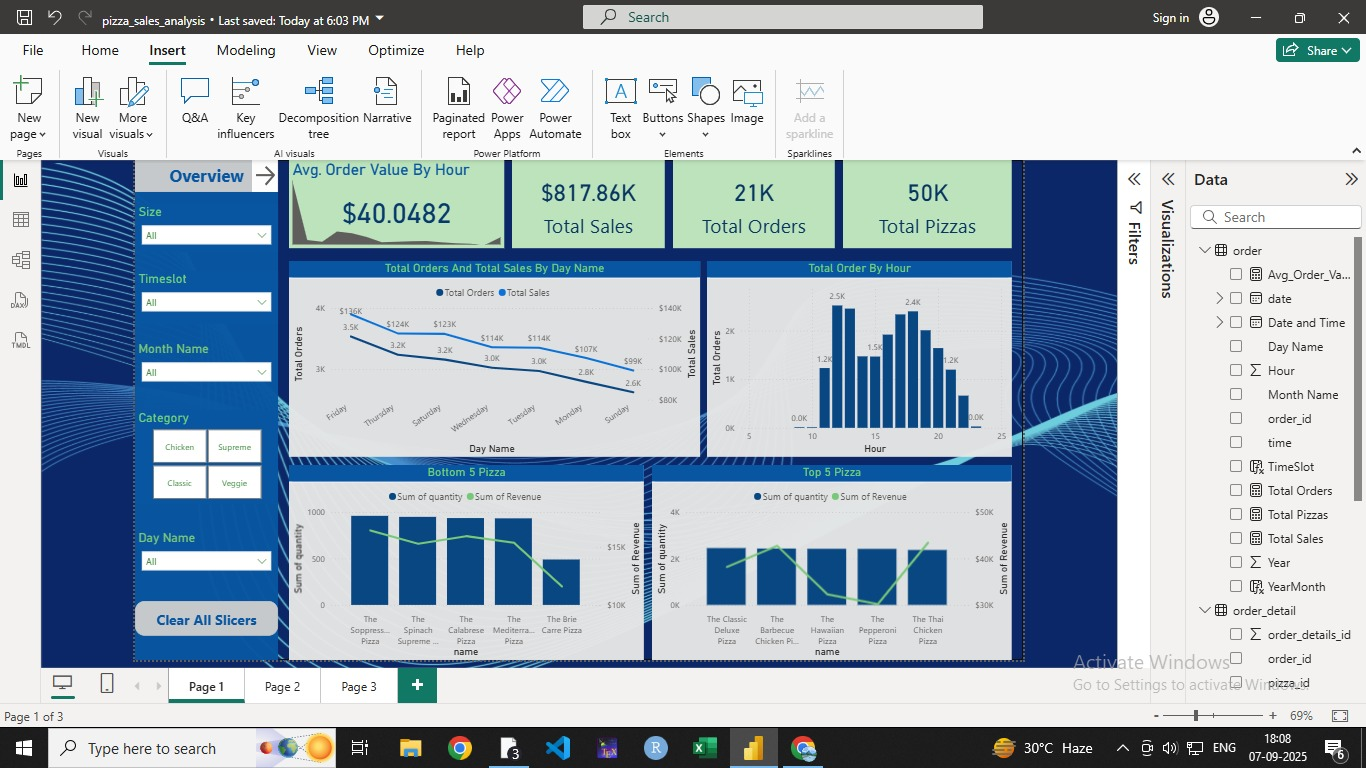

Layout of this report page (visuals, bound fields, positions):
{"tool":"powerbi","page":{"name":"Page 1","canvas":[1280,720],"ordinal":0},"visuals":[{"type":"textbox","box":[0,0,205.9,720],"z":0},{"type":"slicer","title":"Month Name","fields":{"Values":["order.Month Name"]},"box":[0,260.6,205.9,87.8],"z":1000},{"type":"lineClusteredColumnComboChart","title":"Top 5 Pizza","fields":{"Category":["pizza_types.name"],"Y":["Sum(order_detail.quantity)"],"Y2":["Sum(order_detail.Revenue)"]},"box":[744.5,439.2,518.4,280.8],"z":2000},{"type":"lineClusteredColumnComboChart","title":"Bottom 5 Pizza","fields":{"Category":["pizza_types.name"],"Y":["Sum(order_detail.quantity)"],"Y2":["Sum(order_detail.Revenue)"]},"box":[221.8,439.2,511.2,280.8],"z":3000},{"type":"card","title":"Total Sales","fields":{"Values":["order.Total Sales"]},"box":[542.9,0,220.3,126.7],"z":4000},{"type":"card","fields":{"Values":["order.Total Orders"]},"box":[774.7,0,233.3,126.7],"z":5000},{"type":"card","fields":{"Values":["order.Total Pizzas"]},"box":[1019.5,0,243.4,126.7],"z":6000},{"type":"kpi","title":"Avg. Order Value By Hour","fields":{"Indicator":["order.Avg_Order_Value"],"TrendLine":["order.Hour"]},"box":[221.8,0,309.6,126.7],"z":7000},{"type":"slicer","title":"Category","fields":{"Values":["pizza_types.category"]},"box":[0,360,205.9,135.4],"z":8000},{"type":"slicer","title":"Size","fields":{"Values":["pizza.size"]},"box":[0,63.4,205.9,69.1],"z":9000},{"type":"slicer","title":"Day Name","fields":{"Values":["order.Day Name"]},"box":[0,532.8,205.9,82.1],"z":10000},{"type":"textbox","box":[0,0,205.9,46.1],"z":11000},{"type":"actionButton","box":[0,635,205.9,50.4],"z":12000},{"type":"lineChart","title":"Total Orders And Total Sales By Day Name","fields":{"Category":["order.Day Name"],"Y":["order.Total Orders"],"Y2":["order.Total Sales"]},"box":[221.8,145.4,591.8,282.2],"z":13000},{"type":"clusteredColumnChart","title":"Total Order By Hour","fields":{"Category":["order.Hour"],"Y":["order.Total Orders"]},"box":[823.7,145.4,439.2,282.2],"z":14000},{"type":"slicer","title":"Timeslot","fields":{"Values":["order.TimeSlot"]},"box":[0,159.8,205.9,76.3],"z":15000},{"type":"actionButton","box":[168.5,0,37.4,46.1],"z":16000}]}

Visuals, with their boxes on the page's 1280x720 design canvas (x1, y1, x2, y2). These are canvas units, not pixel positions in the 1366x768 screenshot, which may show the page scaled, cropped or inside an application window:
textbox: pyautogui.locateOnScreen(0, 0, 206, 720)
"Month Name" slicer: pyautogui.locateOnScreen(0, 261, 206, 348)
"Top 5 Pizza" lineClusteredColumnComboChart: pyautogui.locateOnScreen(744, 439, 1263, 720)
"Bottom 5 Pizza" lineClusteredColumnComboChart: pyautogui.locateOnScreen(222, 439, 733, 720)
"Total Sales" card: pyautogui.locateOnScreen(543, 0, 763, 127)
card - order.Total Orders: pyautogui.locateOnScreen(775, 0, 1008, 127)
card - order.Total Pizzas: pyautogui.locateOnScreen(1020, 0, 1263, 127)
"Avg. Order Value By Hour" kpi: pyautogui.locateOnScreen(222, 0, 531, 127)
"Category" slicer: pyautogui.locateOnScreen(0, 360, 206, 495)
"Size" slicer: pyautogui.locateOnScreen(0, 63, 206, 132)
"Day Name" slicer: pyautogui.locateOnScreen(0, 533, 206, 615)
textbox: pyautogui.locateOnScreen(0, 0, 206, 46)
actionButton: pyautogui.locateOnScreen(0, 635, 206, 685)
"Total Orders And Total Sales By Day Name" lineChart: pyautogui.locateOnScreen(222, 145, 814, 428)
"Total Order By Hour" clusteredColumnChart: pyautogui.locateOnScreen(824, 145, 1263, 428)
"Timeslot" slicer: pyautogui.locateOnScreen(0, 160, 206, 236)
actionButton: pyautogui.locateOnScreen(168, 0, 206, 46)
